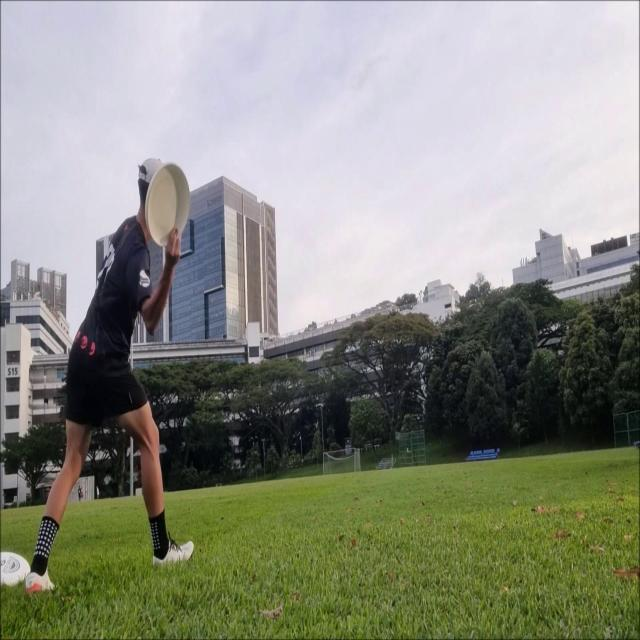disc: (144, 161, 192, 248)
